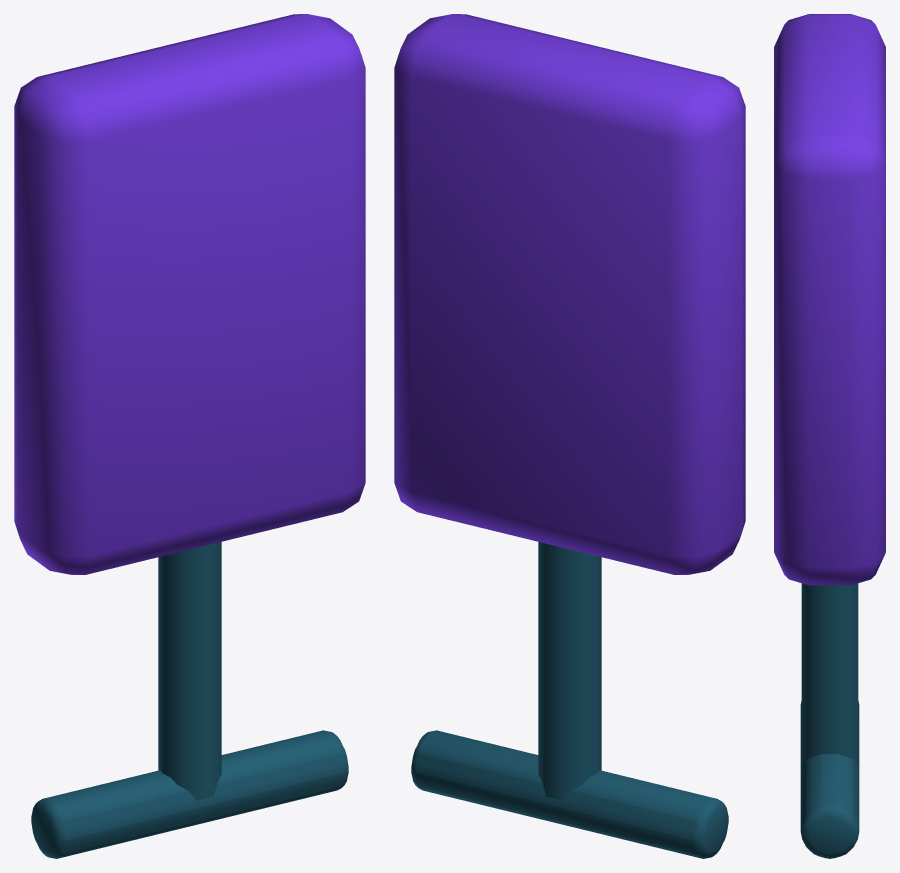
Rendered from stand barrier_violet.fbx.
3 views of the same model, side by side, from view 1: azimuth 30°, elevation 25°; view 2: azimuth 150°, elevation 25°; view 3: azimuth 270°, elevation 25° (orthographic). The views are drawn at different scales.
Parts seen in each view (by area): view 1: stand barrier_violet; view 2: stand barrier_violet; view 3: stand barrier_violet.
Part boxes in pixels (box(x1,y1,x2,y2)): stand barrier_violet: box(14, 14, 365, 858); stand barrier_violet: box(394, 14, 745, 858); stand barrier_violet: box(774, 14, 885, 858).
Size of the model in its own units: 0.1456 by 0.3326 by 0.0468.
